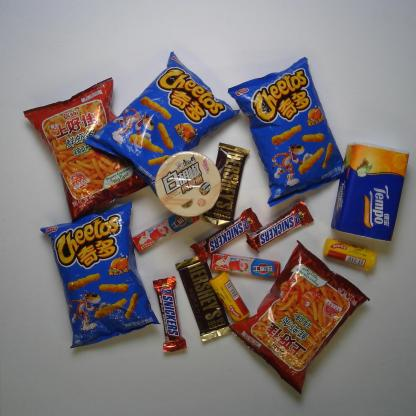Candy: (131, 214, 200, 254), (208, 270, 251, 324), (322, 237, 378, 272), (210, 251, 281, 278)
Chocolate: (175, 255, 233, 343), (201, 141, 251, 229), (189, 206, 263, 265), (245, 200, 315, 254), (152, 276, 188, 352)
Instant Noodles: (155, 151, 222, 218)
Puffed Food: (83, 49, 242, 198), (228, 238, 370, 397), (22, 77, 150, 223), (228, 55, 346, 209), (40, 200, 161, 350)
Tissue: (329, 140, 412, 244)
